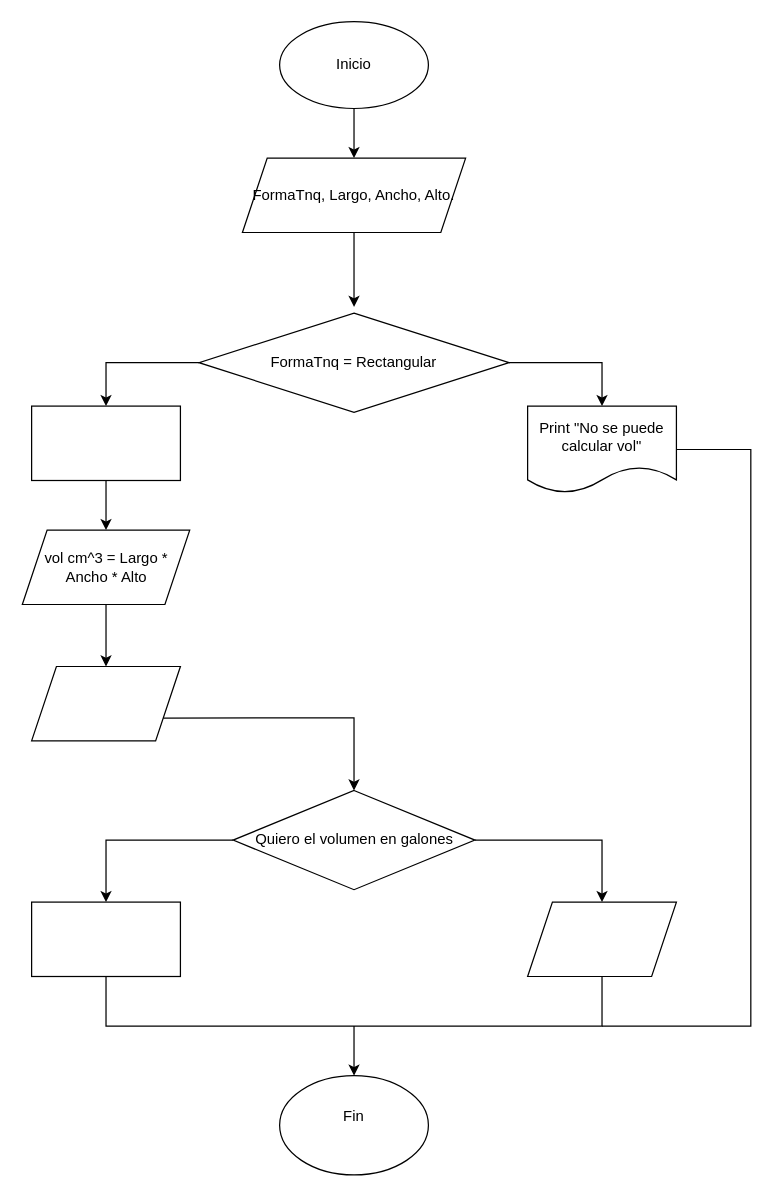
Image size: 774x1197. Some labels were removed from this diagram. Here are the shapes that lost their labels. From the top down, the centre of each, then its label:
point 105,442: Calcular volumen
point 105,703: Vol_Litros = Vol_cm^3/1000
point 105,938: Mostar Litros
point 601,938: Vol_Galones = Vol_Litros/3,785
